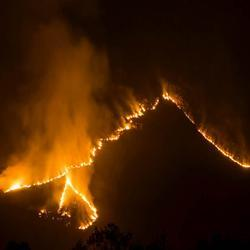fire: (57, 168, 98, 227), (6, 172, 31, 195)
